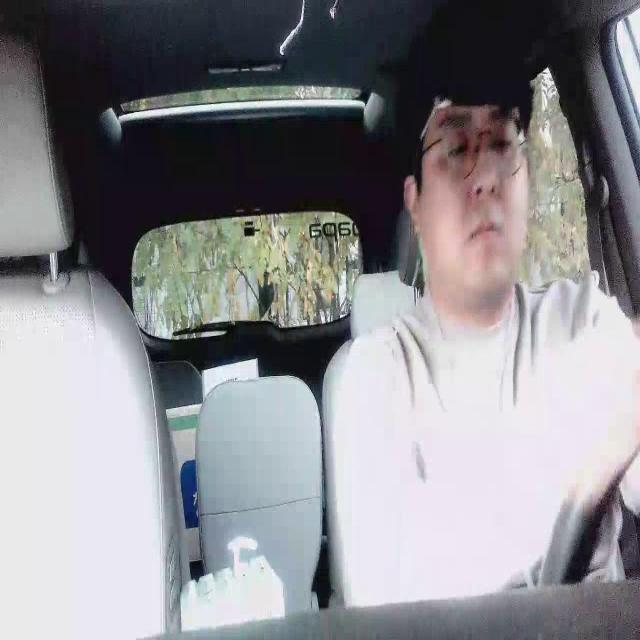Inattentive: (392, 19, 540, 300)
